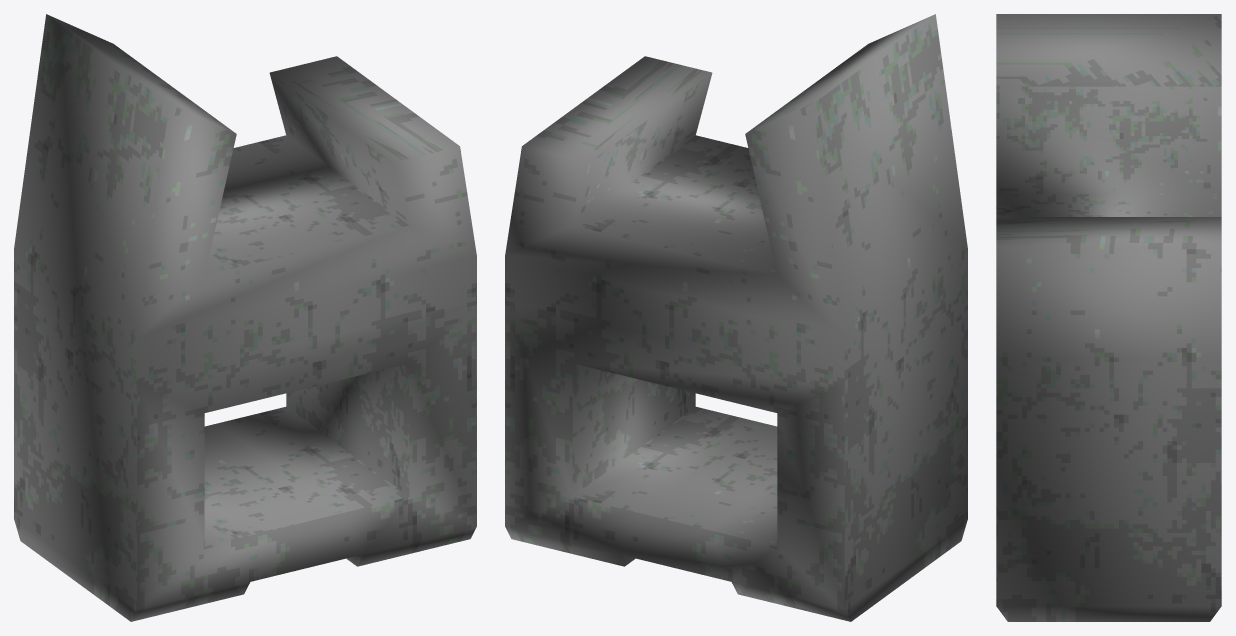
File: cinder_block_2.glb
3 renders of one model, left to right at view 1: azimuth 30°, elevation 25°; view 2: azimuth 150°, elevation 25°; view 3: azimuth 270°, elevation 25°, orthographic. The views are drawn at different scales.
Parts seen in each view (by area): view 1: Cinder_Block_2; view 2: Cinder_Block_2; view 3: Cinder_Block_2.
Boxes of the visible parts, x1,y1,x2,y2 form: Cinder_Block_2: (14, 14, 476, 621); Cinder_Block_2: (505, 14, 967, 621); Cinder_Block_2: (996, 14, 1221, 621).
Bounding box in the file's own units: 0.7763 × 1.12 × 0.4875.
Materials: 1 (1 with a texture image).
